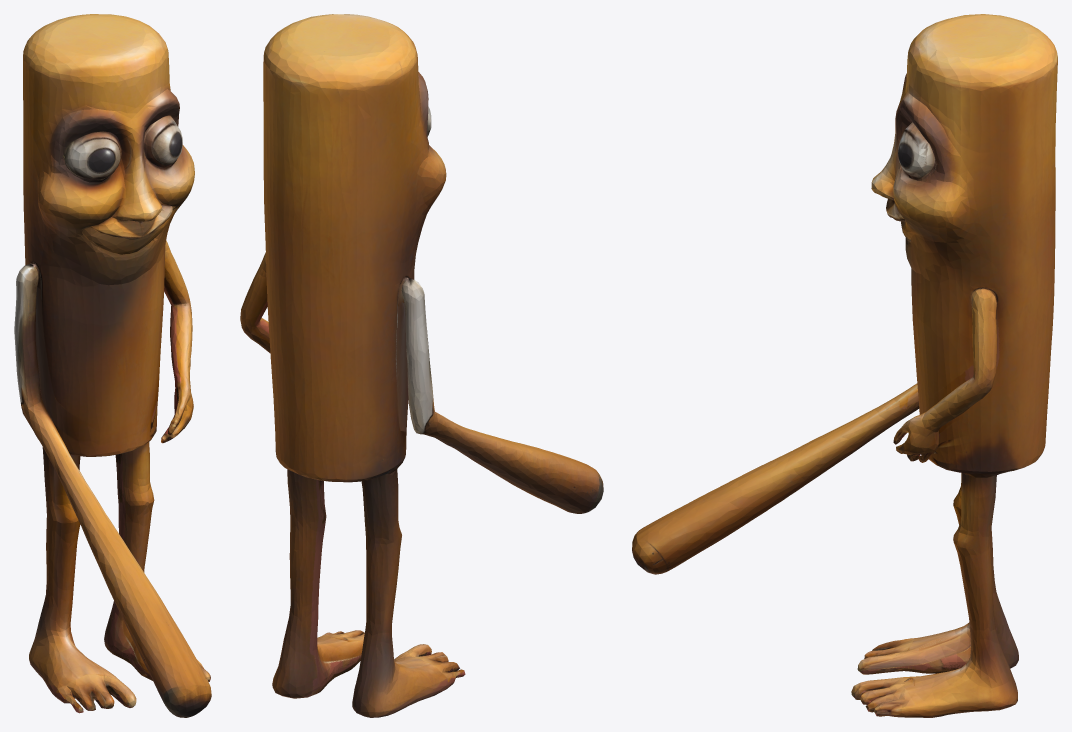
The model's file is i_need_mo_del_him_0505130222_texture.fbx.
The picture shows the model from 3 angles, left to right: view 1: azimuth 30°, elevation 25°; view 2: azimuth 150°, elevation 25°; view 3: azimuth 270°, elevation 25°; orthographic projection. The views are drawn at different scales.
Visible parts, largest first — view 1: temp; view 2: temp; view 3: temp.
Boxes of the visible parts, <box> form: temp: <box>14,14,211,717</box>; temp: <box>240,14,603,717</box>; temp: <box>632,14,1057,717</box>.
Size of the model in its own units: 60.51 by 200 by 119.
Materials: 1 (1 with a texture image).
